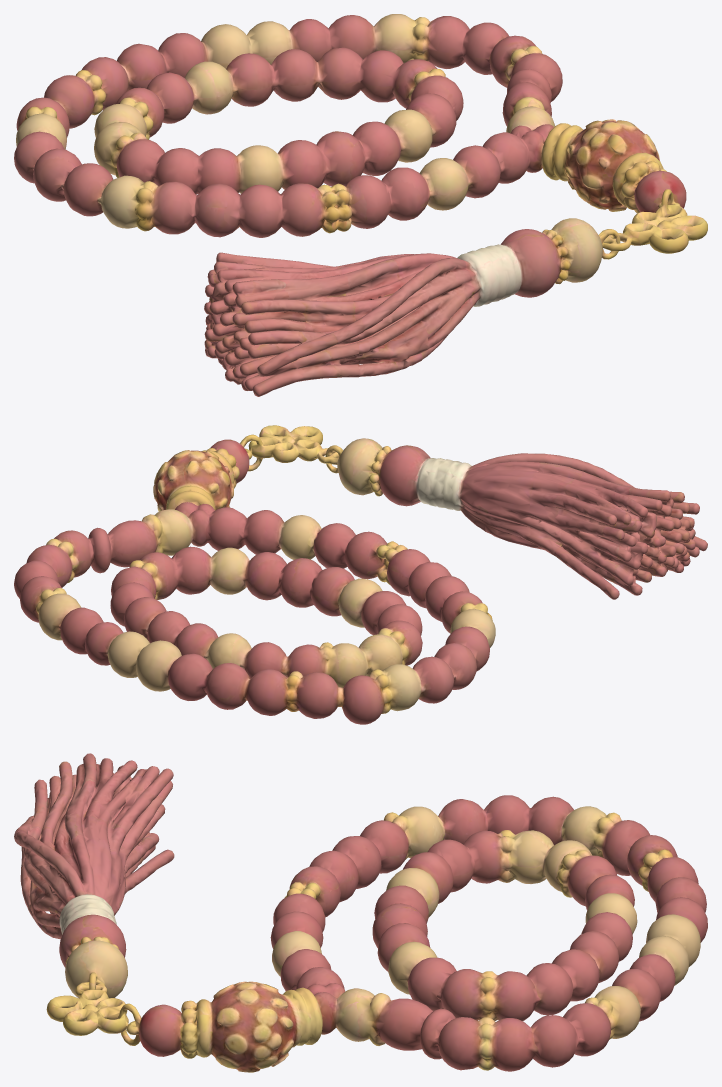
The model's file is tasbih-08-rose-sand.glb.
The picture shows the model from 3 angles, top to bottom: view 1: azimuth 30°, elevation 25°; view 2: azimuth 150°, elevation 25°; view 3: azimuth 270°, elevation 25°; orthographic projection. The views are drawn at different scales.
Visible parts, largest first — view 1: mesh_node; view 2: mesh_node; view 3: mesh_node.
Boxes of the visible parts, bbox=[...] form: mesh_node: bbox=[14, 14, 707, 396]; mesh_node: bbox=[14, 425, 707, 724]; mesh_node: bbox=[14, 753, 707, 1072].
Size of the model in its own units: 1.68 by 0.3077 by 1.9.
1 material, 1 textured.
